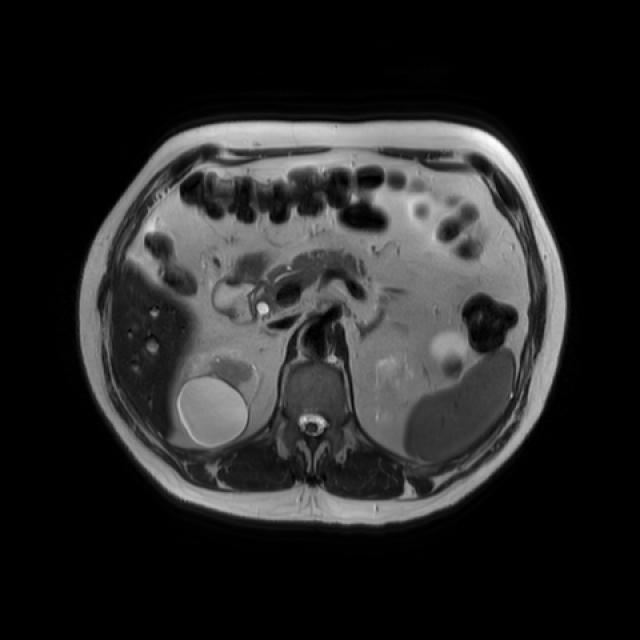sag: (175, 353, 255, 449)
sol: (429, 329, 471, 380)
